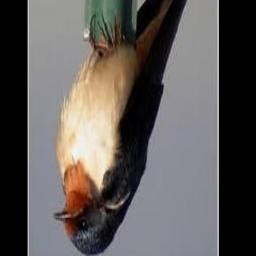Swallow: (53, 0, 205, 256)
